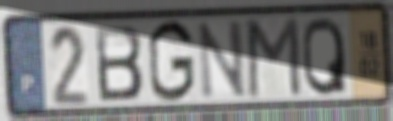2: (47, 22, 93, 107)
B: (92, 22, 145, 104)
G: (146, 18, 197, 106)
M: (245, 14, 304, 101)
N: (195, 17, 249, 102)
Q: (301, 14, 349, 99)
